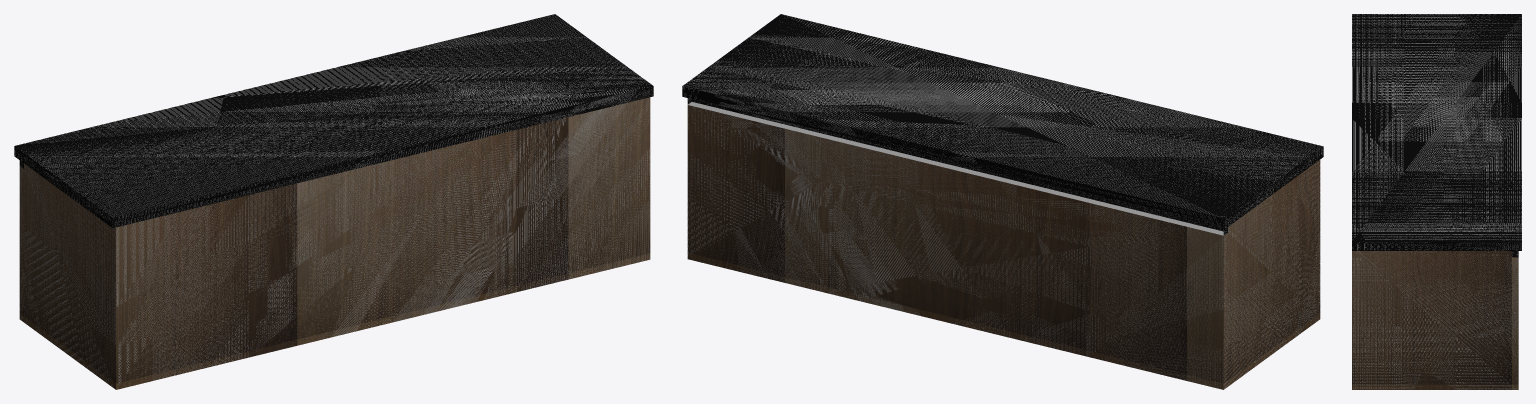
Rendered from worktop.dae.
3 views of the same model, side by side, from view 1: azimuth 30°, elevation 25°; view 2: azimuth 150°, elevation 25°; view 3: azimuth 270°, elevation 25° (orthographic). The views are drawn at different scales.
Parts seen in each view (by area): view 1: skpE74C (×3); view 2: skpE74C (×4); view 3: skpE74C (×2).
Part boxes in pixels (x1,y1,x2,y2): skpE74C (×3): [14, 14, 653, 389]; skpE74C (×4): [682, 14, 1323, 389]; skpE74C (×2): [1352, 14, 1521, 389].
Size of the model in its own units: 128 by 40.18 by 38.99.
Materials: 4 (1 with a texture image).
